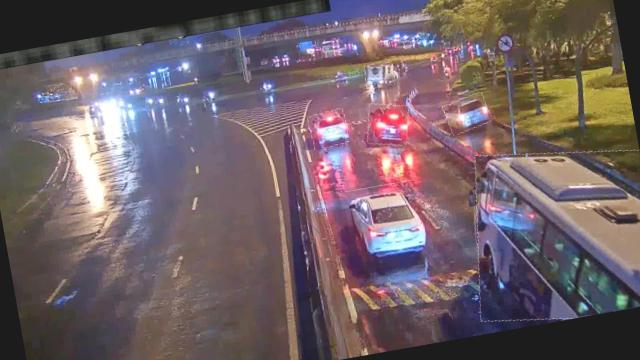Bus: (458, 133, 640, 333)
Car: (345, 179, 427, 263), (364, 100, 414, 150), (443, 92, 492, 134), (308, 108, 350, 150)
Truck: (363, 60, 396, 90)
